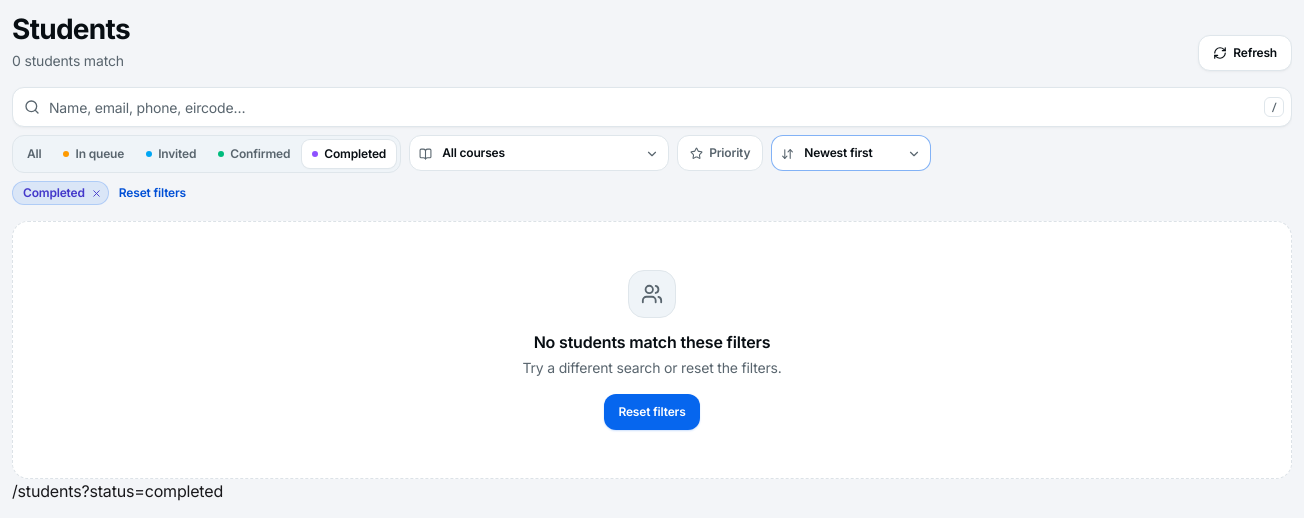
ViewerStudentsDirectory › renders an empty state that can reset filters
This screenshot has width=1304, height=518.
Expected: the heading "No students match these filters" is shown, [534, 332, 770, 352]
What coordinates should you click on to do the following:
click the button "Reset filters" below "No students match these filters"
I would click on:
 (652, 412)
Its box is [604, 394, 700, 430].
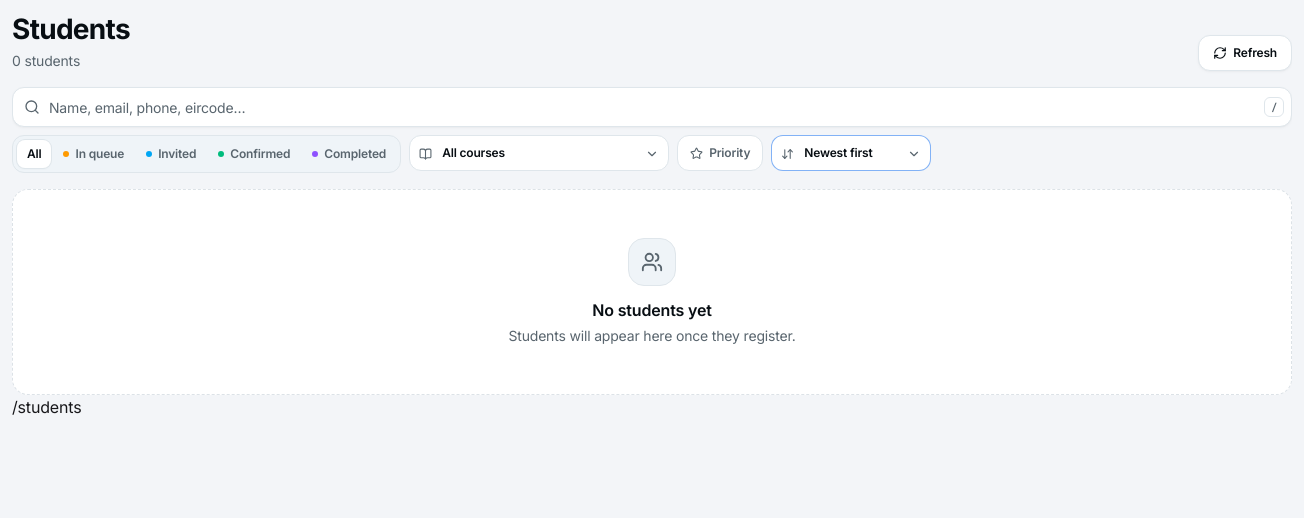
Now the text with test id "location" reads "/students", box [12, 397, 81, 417]
